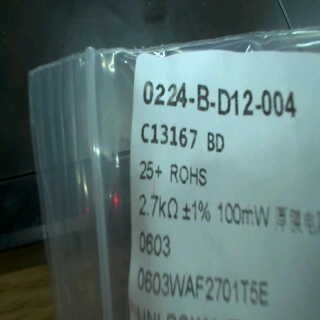2.7kR: (134, 190, 181, 221)
